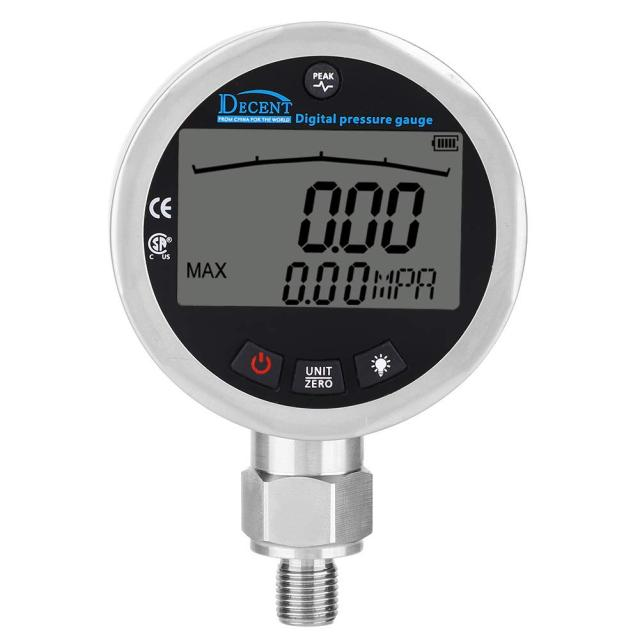display: (178, 130, 461, 308)
frame: (294, 176, 425, 257), (280, 257, 370, 306)
gauge: (107, 19, 527, 629)
